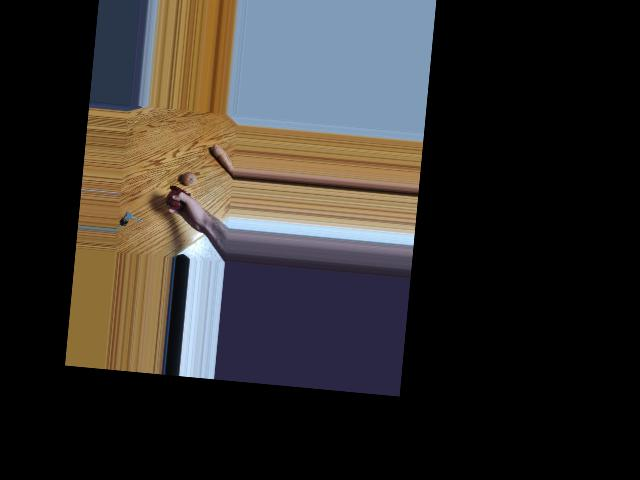onion: (181, 172, 201, 191)
